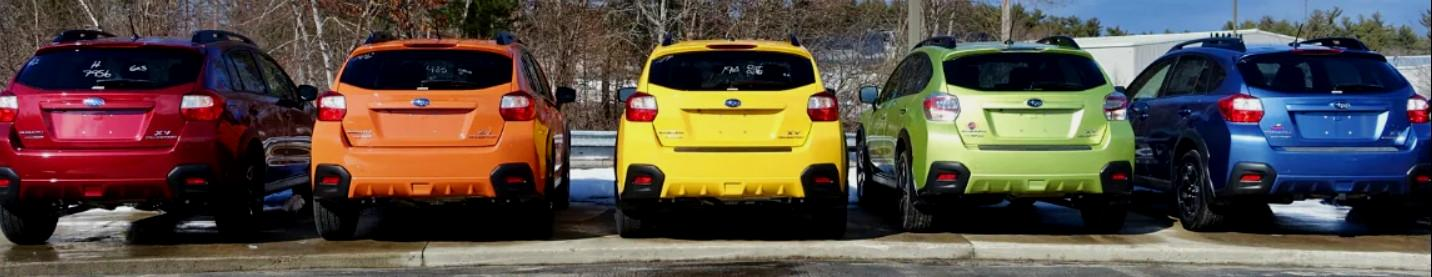subaru: (75, 94, 114, 113), (406, 95, 439, 111), (1024, 93, 1049, 113), (718, 96, 749, 111), (1328, 96, 1357, 110)
